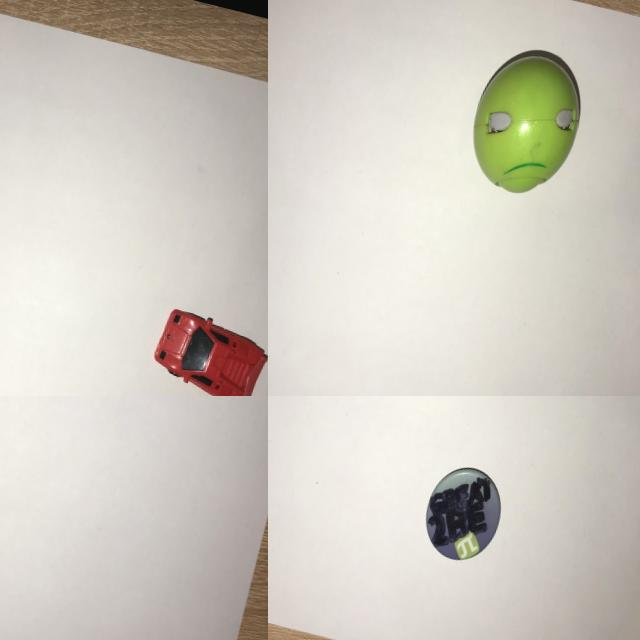car: (139, 291, 268, 396)
icon: (406, 448, 517, 578)
toy: (451, 32, 598, 211)
